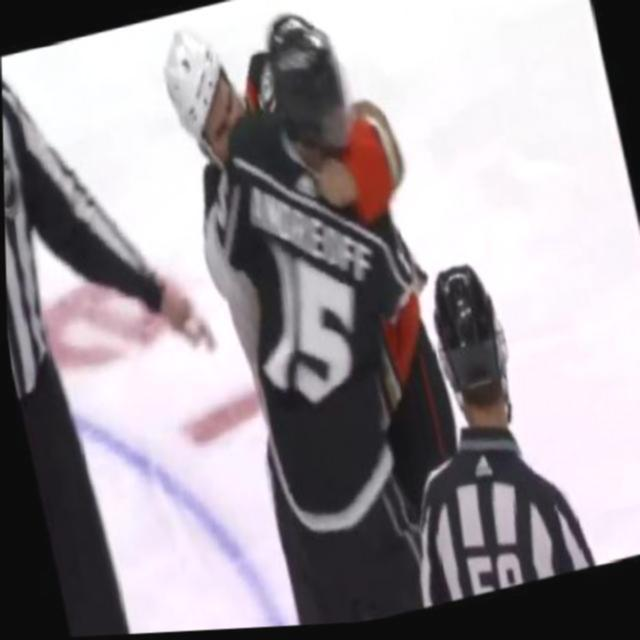fight: (145, 0, 496, 634)
